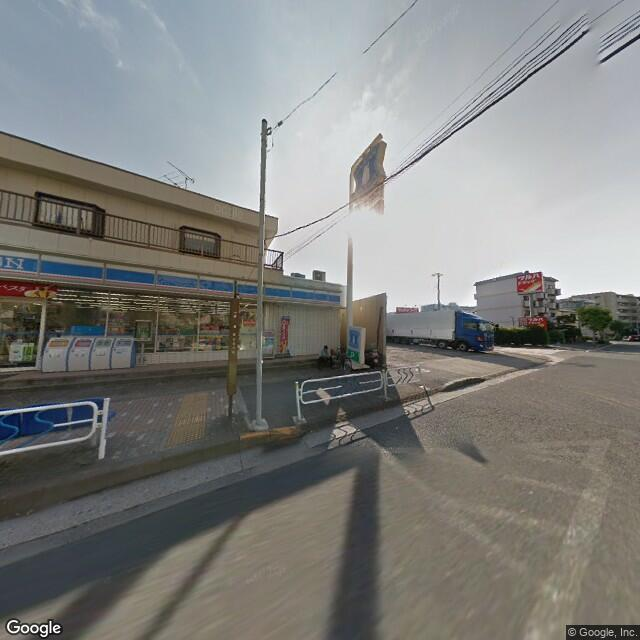lawson: (1, 247, 342, 315), (351, 140, 385, 196), (346, 324, 363, 351)
